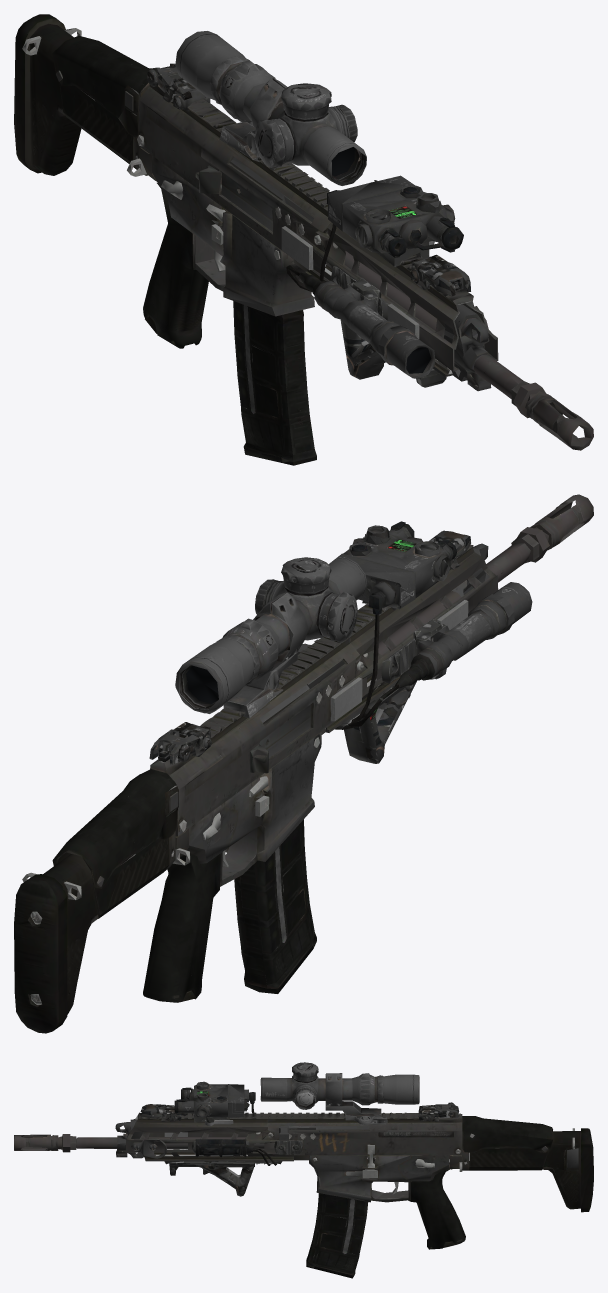
The model's file is r1_tactical.glb.
3 views of the same model, one above another, from view 1: azimuth 30°, elevation 25°; view 2: azimuth 150°, elevation 25°; view 3: azimuth 270°, elevation 25° (orthographic). The views are drawn at different scales.
Visible parts, largest first — view 1: body; view 2: body; view 3: body.
Boxes of the visible parts, x1,y1,x2,y2 form: body: [14, 14, 593, 465]; body: [14, 494, 593, 1033]; body: [14, 1062, 593, 1278].
Size of the model in its own units: 0.1102 by 0.356 by 0.9.
Materials: 6 (6 with a texture image).
